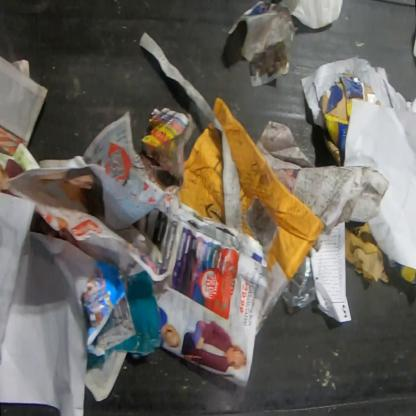cardboard: (211, 95, 326, 339), (84, 261, 164, 402), (318, 72, 382, 166), (177, 121, 225, 224), (82, 258, 128, 356), (345, 221, 392, 284), (384, 252, 415, 286)
rigid_plastic: (281, 254, 318, 310), (277, 0, 344, 30)
